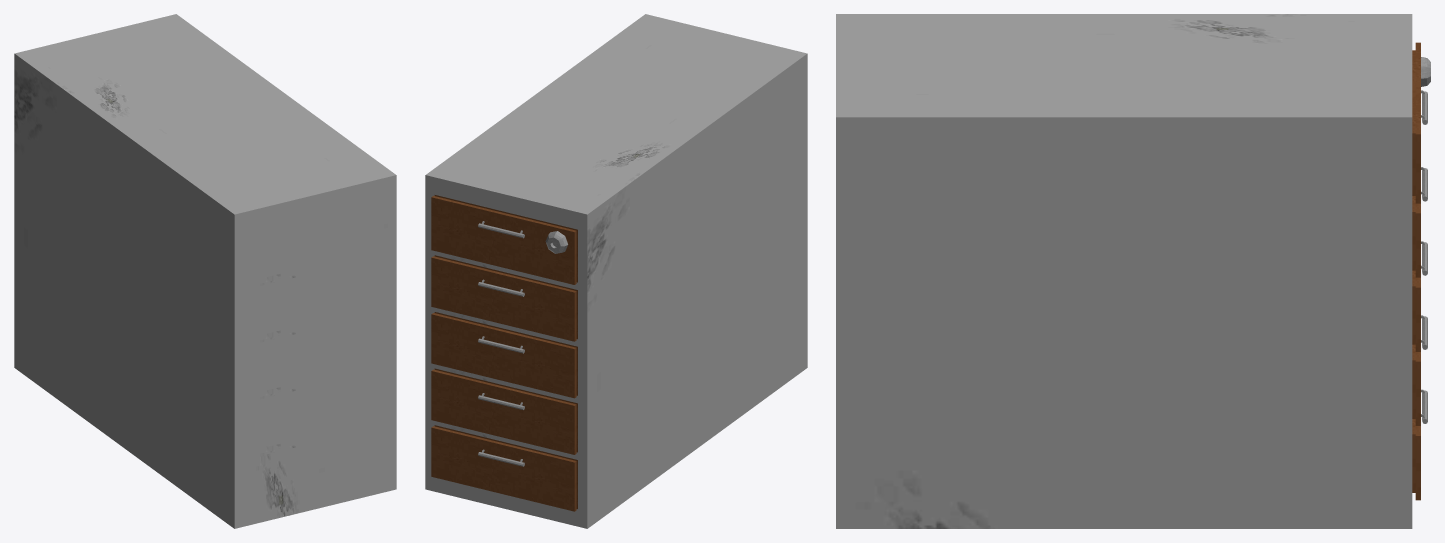
File: drawer.fbx
The picture shows the model from 3 angles, left to right: view 1: azimuth 30°, elevation 25°; view 2: azimuth 150°, elevation 25°; view 3: azimuth 270°, elevation 25°; orthographic projection. The views are drawn at different scales.
Parts seen in each view (by area): view 1: drawer_body, drawer_divider; view 2: drawer_body, drawer_box1, drawer_box2, drawer_box8, drawer_box7, drawer_box6, drawer_divider; view 3: drawer_body, drawer_box1, drawer_box2, drawer_box6, drawer_box8, drawer_box7.
Boxes of the visible parts, left/top/right/bottom form: drawer_body: left=14, top=14, right=396, bottom=528; drawer_divider: left=244, top=248, right=387, bottom=459; drawer_body: left=425, top=14, right=807, bottom=528; drawer_box1: left=431, top=195, right=577, bottom=284; drawer_box2: left=431, top=255, right=577, bottom=341; drawer_box8: left=431, top=425, right=577, bottom=511; drawer_box7: left=431, top=368, right=577, bottom=454; drawer_box6: left=431, top=312, right=577, bottom=398; drawer_divider: left=434, top=251, right=577, bottom=459; drawer_body: left=836, top=14, right=1412, bottom=528; drawer_box1: left=1412, top=42, right=1420, bottom=203; drawer_box2: left=1412, top=196, right=1420, bottom=277; drawer_box6: left=1412, top=270, right=1420, bottom=351; drawer_box8: left=1412, top=419, right=1420, bottom=500; drawer_box7: left=1412, top=344, right=1420, bottom=425.
Bounding box in the file's own units: 0.4249 × 0.7882 × 1.03.
